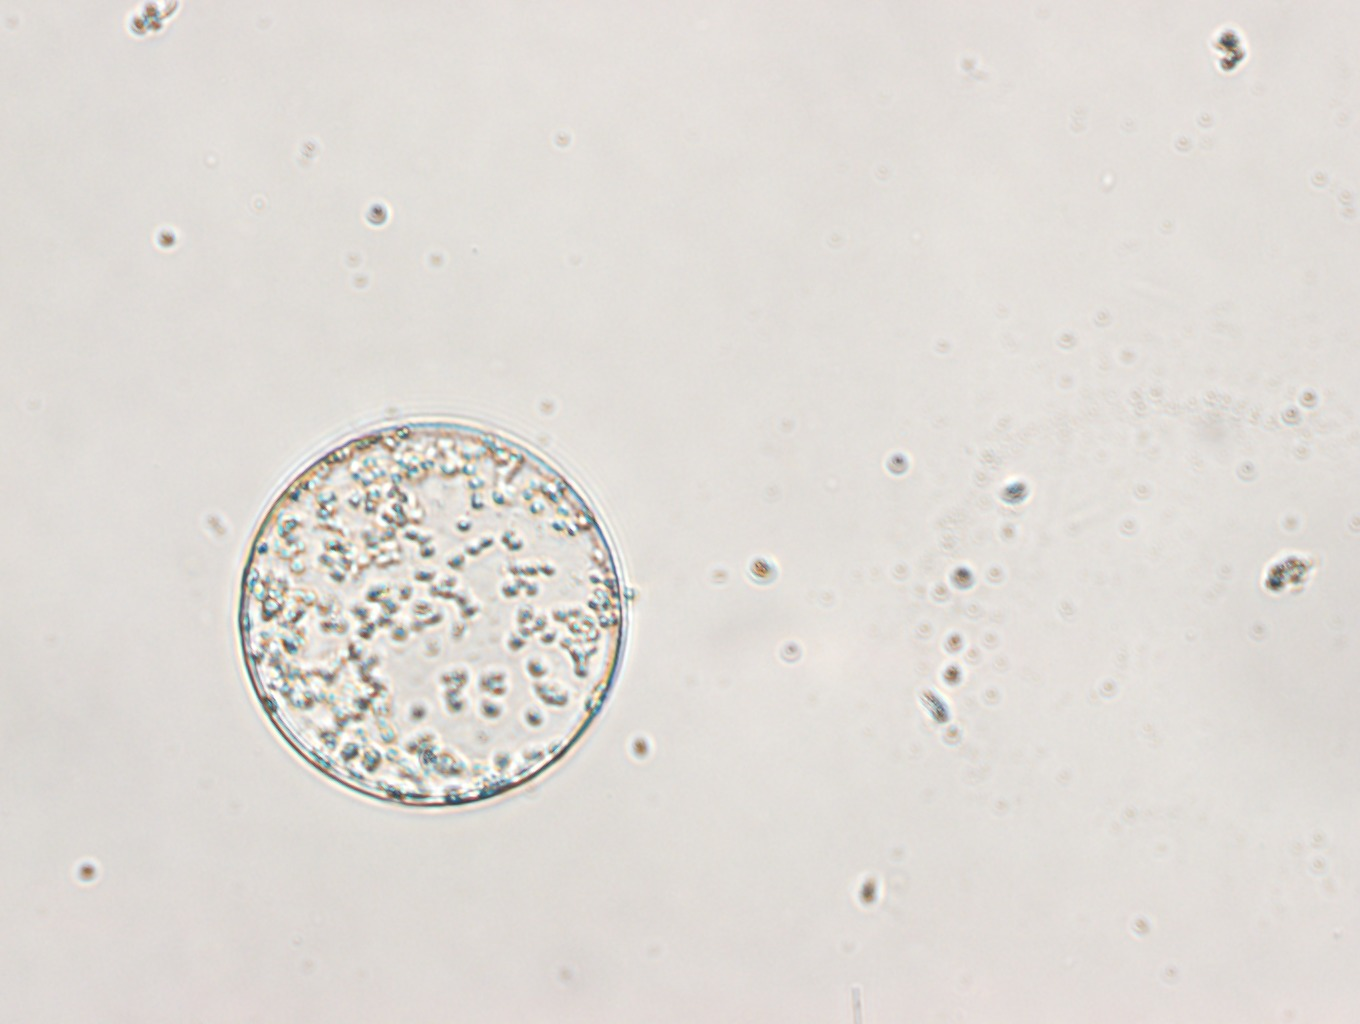coscinodiscus: (230, 411, 633, 817)
